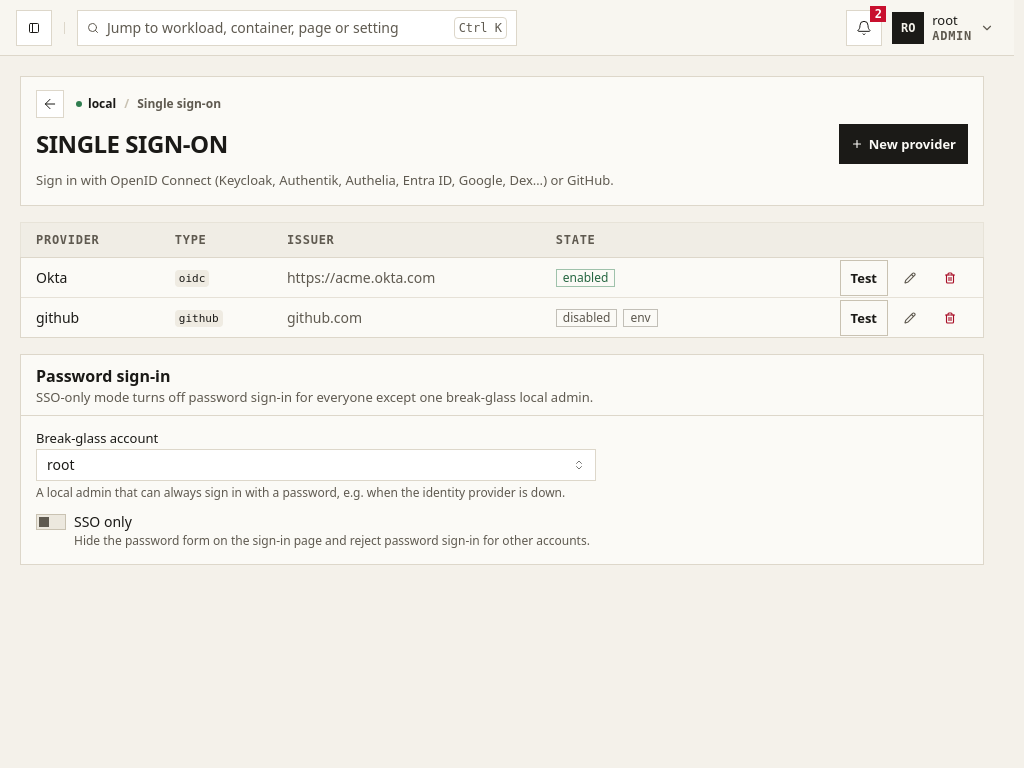
Test: sso providers page › updates password sign-in settings
Click the switch labelled "SSO only": [316, 531] box x1=36 y1=513 x2=596 y2=549
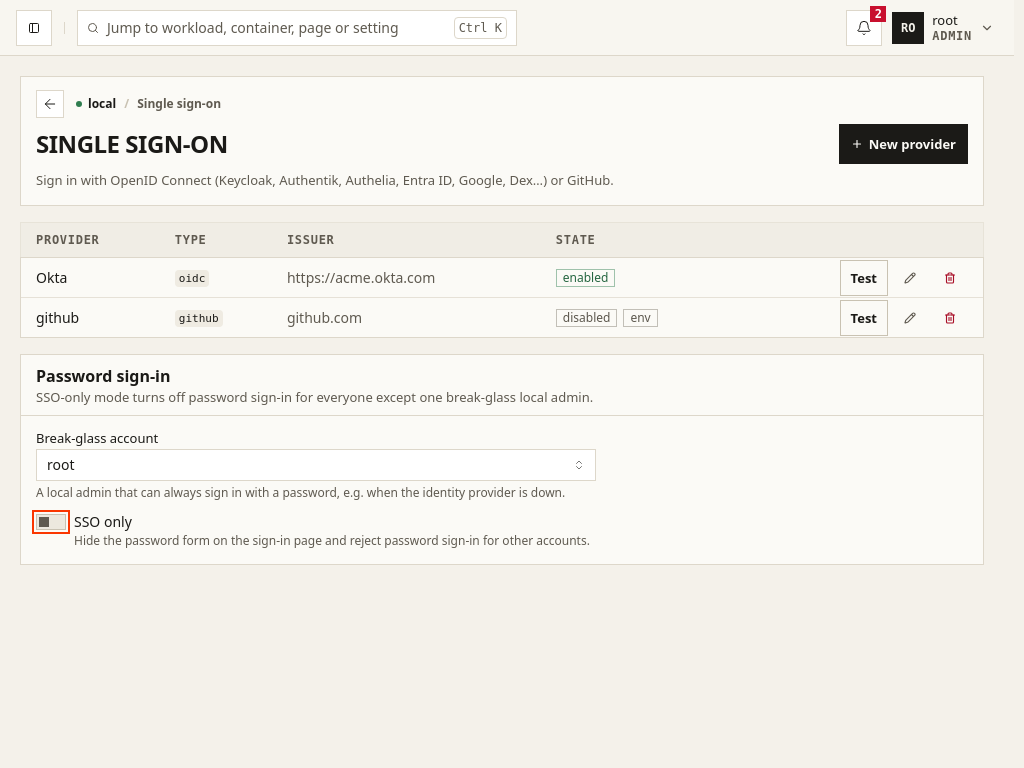
Click the switch labelled "SSO only": [316, 531] box x1=36 y1=513 x2=596 y2=549
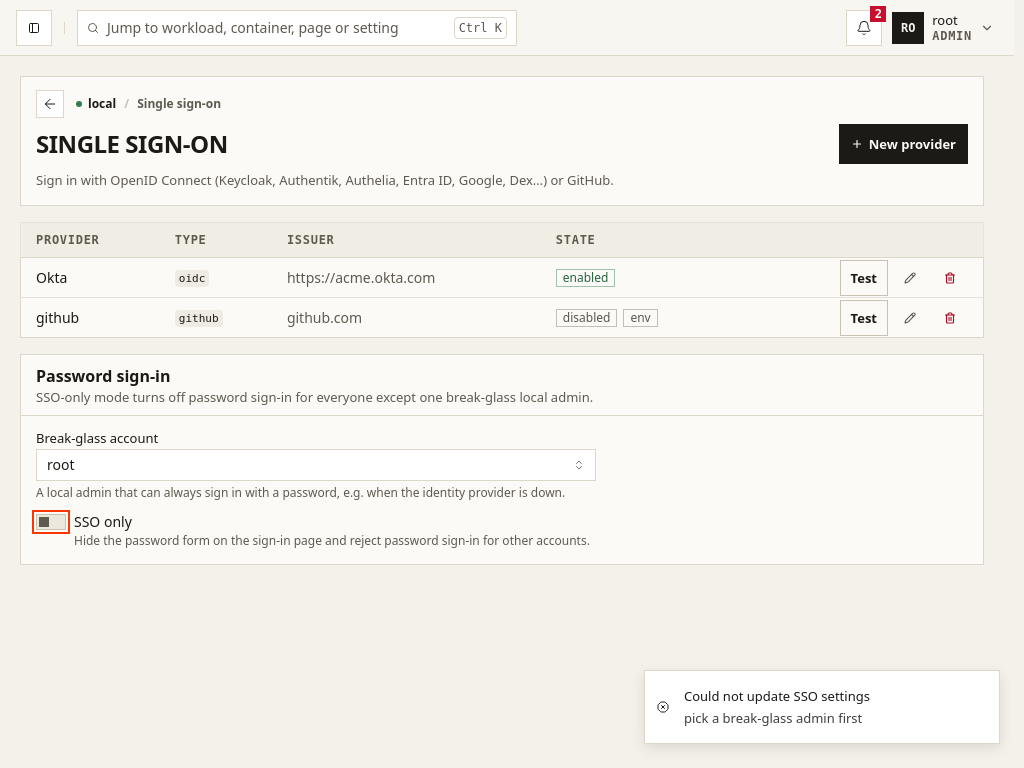
Check: the text "pick a break-glass admin first" is shown, box x1=684 y1=709 x2=870 y2=727
